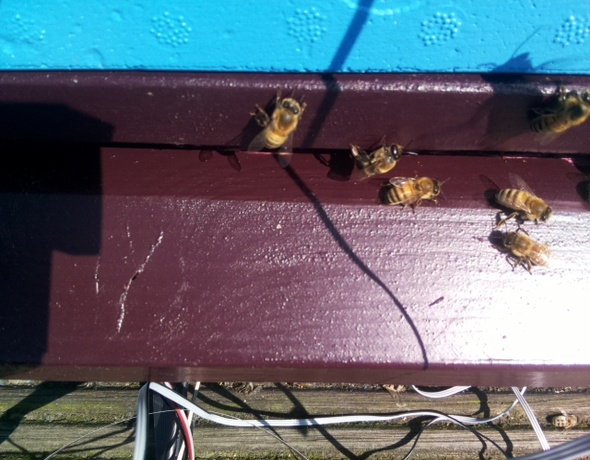no_pollen: (527, 88, 590, 140), (493, 179, 554, 230), (252, 94, 305, 152), (494, 228, 556, 275), (378, 174, 442, 211)
pollen: (344, 139, 404, 180)
